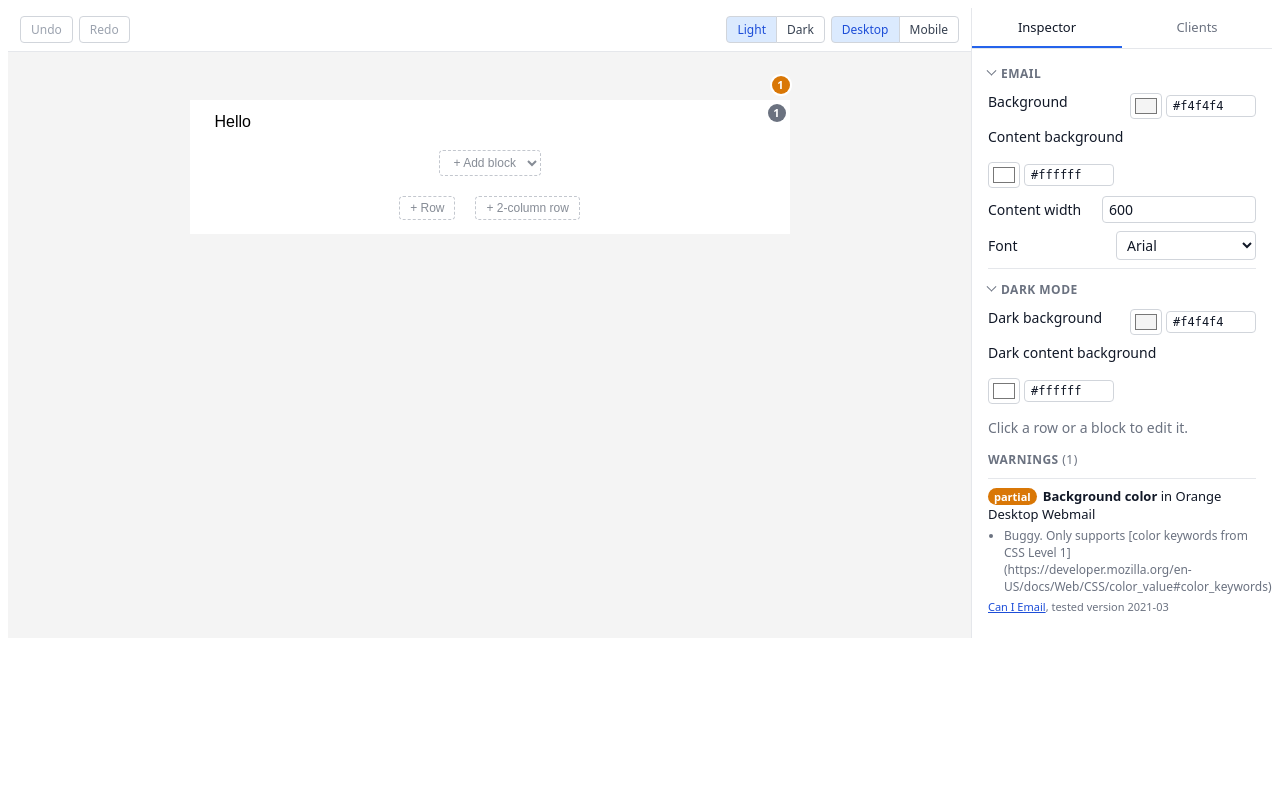
Test: <MailBlocks /> › shows compatibility warnings for the selected block
Click the text box "Hello".
click(233, 122)  # box [214,113,251,130]
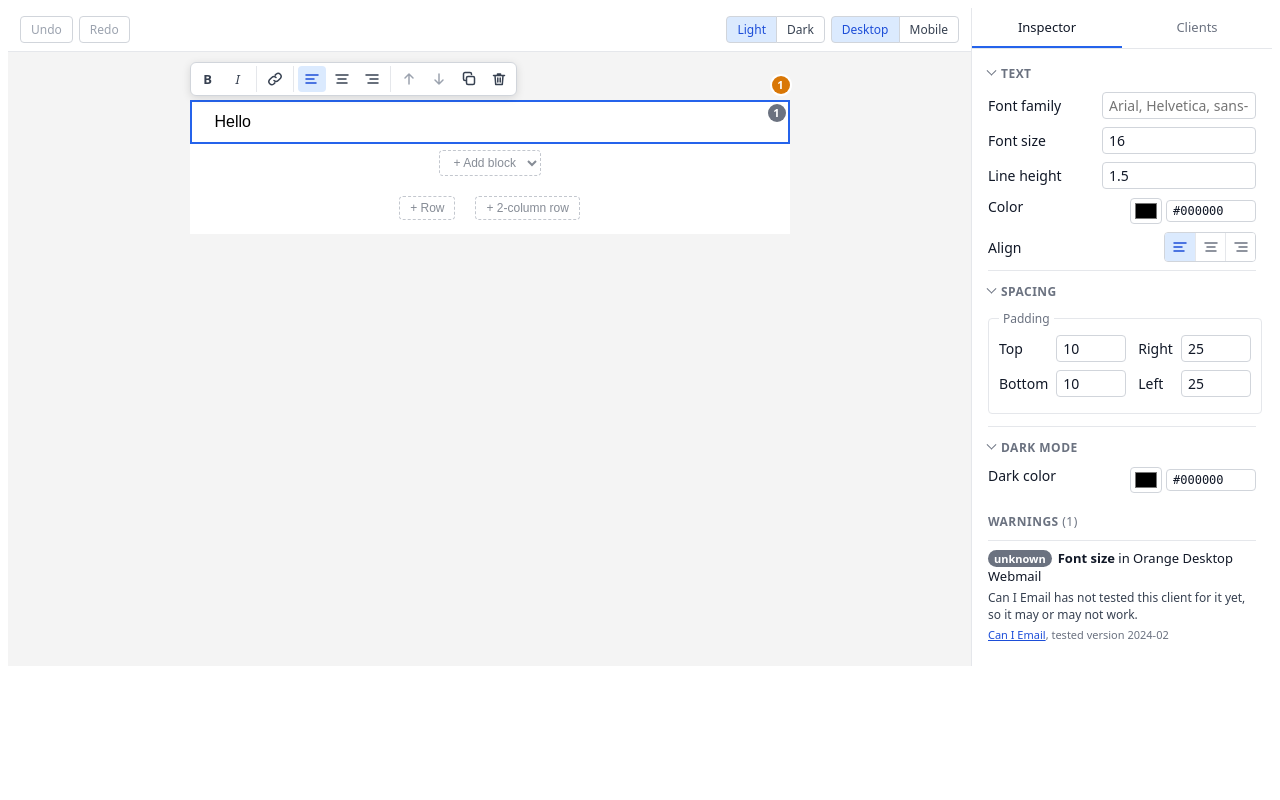
Check: the text "unknown" is shown, box [988,550,1052,567]
Check: the text "Font size" is shown, box [1058,549,1115,567]
